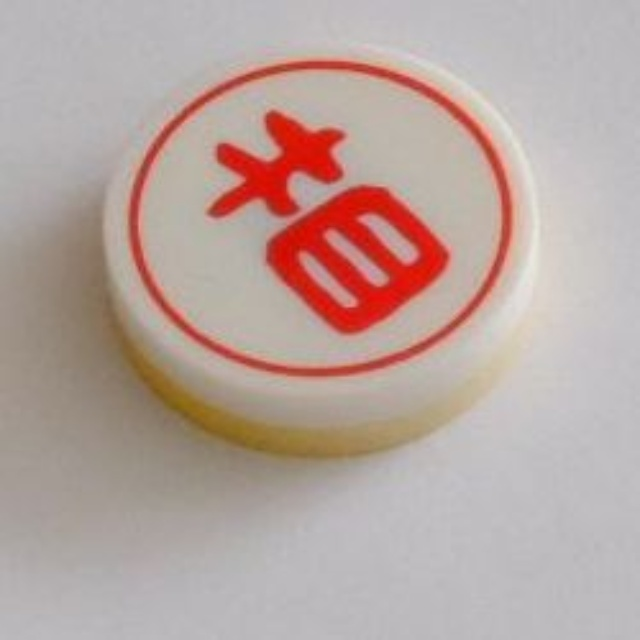red_bo: (96, 37, 546, 461)
